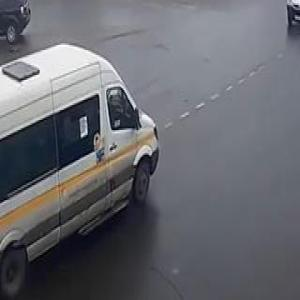significant: (0, 0, 33, 47)
